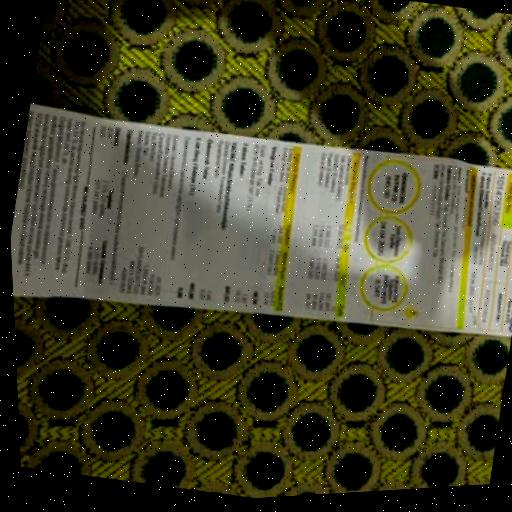electricity-bill: (10, 104, 512, 337)
